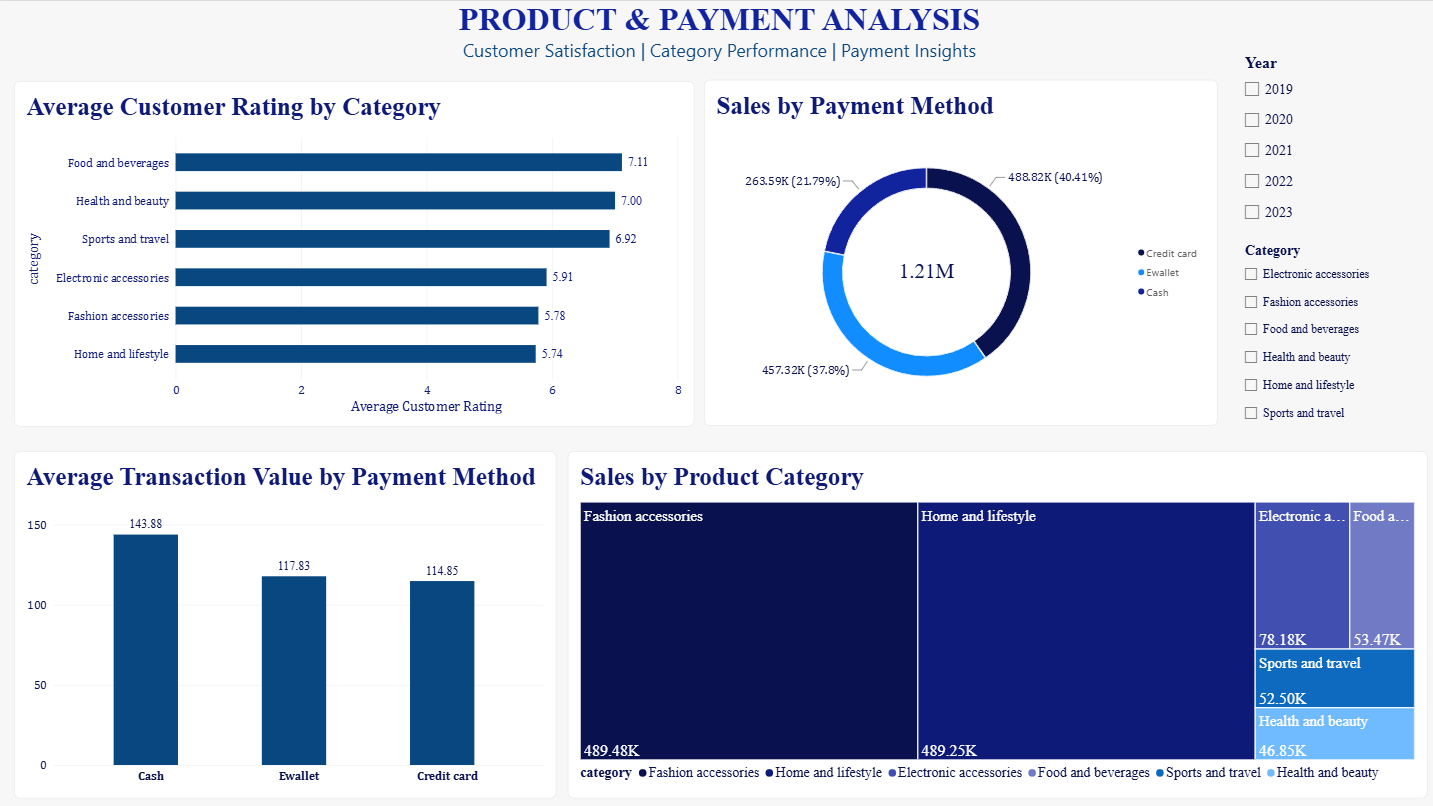

This screenshot's page, from the dashboard's own definition file:
{"tool":"powerbi","page":{"name":"Product and  Payment Analysis","canvas":[1920,1080],"ordinal":1},"visuals":[{"type":"textbox","box":[317.7,0,1284.6,105.8],"z":0},{"type":"clusteredBarChart","title":"Average Customer Rating by Category","fields":{"Category":["walmart_cleaned.category"],"Y":["Avg(walmart_cleaned.rating)"]},"box":[19.2,106.4,907,460.5],"z":1},{"type":"donutChart","title":"\tSales by Payment Method","fields":{"Category":["walmart_cleaned.payment_method"],"Y":["Sum(walmart_cleaned.sales)"]},"box":[940.4,105.8,684.6,461.5],"z":2},{"type":"clusteredColumnChart","title":"\tAverage Transaction Value by Payment Method","fields":{"Category":["walmart_cleaned.payment_method"],"Y":["Avg(walmart_cleaned.sales)"]},"box":[19.2,600,723.1,463.5],"z":3},{"type":"treemap","title":"Sales by Product Category","fields":{"Group":["walmart_cleaned.category"],"Values":["Sum(walmart_cleaned.sales)"]},"box":[757.7,600,1146.2,463.5],"z":4},{"type":"slicer","fields":{"Values":["walmart_cleaned.year"]},"box":[1653.8,69.2,180.8,232.7],"z":5},{"type":"slicer","fields":{"Values":["walmart_cleaned.category"]},"box":[1653.8,321.2,246.2,261.5],"z":6}]}

Visuals, with their boxes in screenshot pixels (x1, y1, x2, y2), scaled from the page's 1920x1080 canvas onto the 1433x806 screenshot:
textbox: bbox=(237, 0, 1196, 79)
"Average Customer Rating by Category" clusteredBarChart: bbox=(14, 79, 691, 423)
"	Sales by Payment Method" donutChart: bbox=(702, 79, 1213, 423)
"	Average Transaction Value by Payment Method" clusteredColumnChart: bbox=(14, 448, 554, 794)
"Sales by Product Category" treemap: bbox=(566, 448, 1421, 794)
slicer - walmart_cleaned.year: bbox=(1234, 52, 1369, 225)
slicer - walmart_cleaned.category: bbox=(1234, 240, 1418, 435)
